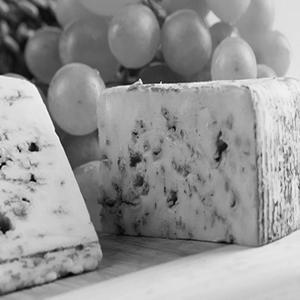cheese: (91, 74, 294, 251)
